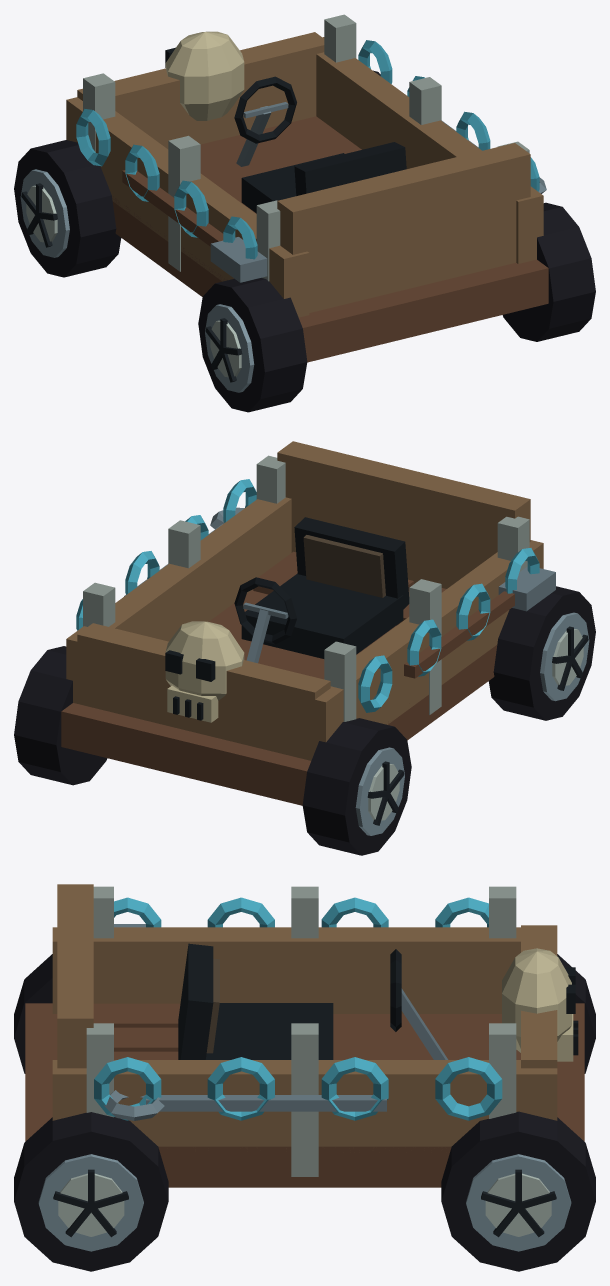
The model's file is kart.glb.
3 views of the same model, one above another, from view 1: azimuth 30°, elevation 25°; view 2: azimuth 150°, elevation 25°; view 3: azimuth 270°, elevation 25° (orthographic). The views are drawn at different scales.
Parts seen in each view (by area): view 1: identity-wagon-wagon-timber-coach, wheel-rear-left, wheel-front-left, identity-wagon-driver-cockpit, wheel-rear-right, identity-wagon-motif-water, identity-wagon-motif-skull, identity-wagon-motif-tools; view 2: identity-wagon-wagon-timber-coach, identity-wagon-driver-cockpit, wheel-front-left, wheel-rear-left, wheel-front-right, identity-wagon-motif-water, identity-wagon-motif-skull, identity-wagon-motif-tools; view 3: identity-wagon-wagon-timber-coach, wheel-front-right, wheel-rear-right, identity-wagon-motif-water, identity-wagon-driver-cockpit, identity-wagon-motif-skull, identity-wagon-motif-tools, wheel-rear-left, wheel-front-left.
Part boxes in pixels (x1,y1,x2,y2): identity-wagon-wagon-timber-coach: [66, 14, 548, 362]; wheel-rear-left: [198, 278, 307, 412]; wheel-front-left: [14, 140, 121, 277]; identity-wagon-driver-cockpit: [234, 76, 406, 213]; wheel-rear-right: [502, 202, 595, 341]; identity-wagon-motif-water: [76, 40, 539, 259]; identity-wagon-motif-skull: [165, 31, 244, 120]; identity-wagon-motif-tools: [122, 120, 546, 282]; identity-wagon-wagon-timber-coach: [61, 441, 543, 805]; identity-wagon-driver-cockpit: [234, 517, 409, 663]; wheel-front-left: [302, 718, 411, 855]; wheel-rear-left: [488, 586, 595, 720]; wheel-front-right: [14, 646, 107, 785]; identity-wagon-motif-water: [76, 479, 539, 712]; identity-wagon-motif-skull: [165, 621, 244, 722]; identity-wagon-motif-tools: [124, 507, 555, 678]; identity-wagon-wagon-timber-coach: [25, 884, 584, 1187]; wheel-front-right: [441, 1111, 595, 1271]; wheel-rear-right: [14, 1112, 168, 1271]; identity-wagon-motif-water: [94, 897, 502, 1120]; identity-wagon-driver-cockpit: [178, 943, 448, 1059]; identity-wagon-motif-skull: [502, 948, 578, 1061]; identity-wagon-motif-tools: [104, 924, 386, 1120]; wheel-rear-left: [14, 954, 52, 1073]; wheel-front-left: [557, 954, 595, 1073].
Size of the model in its own units: 2.07 by 1.1 by 2.56.
